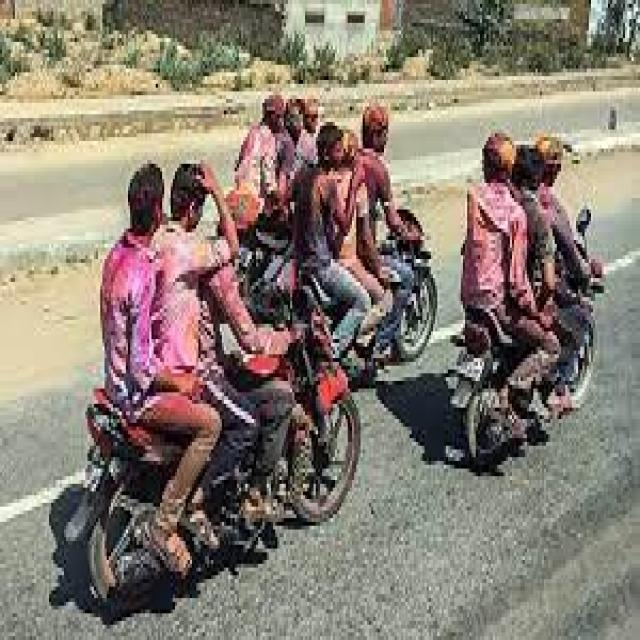Triple_riding: (99, 149, 267, 583), (446, 110, 611, 477), (304, 109, 404, 352)
